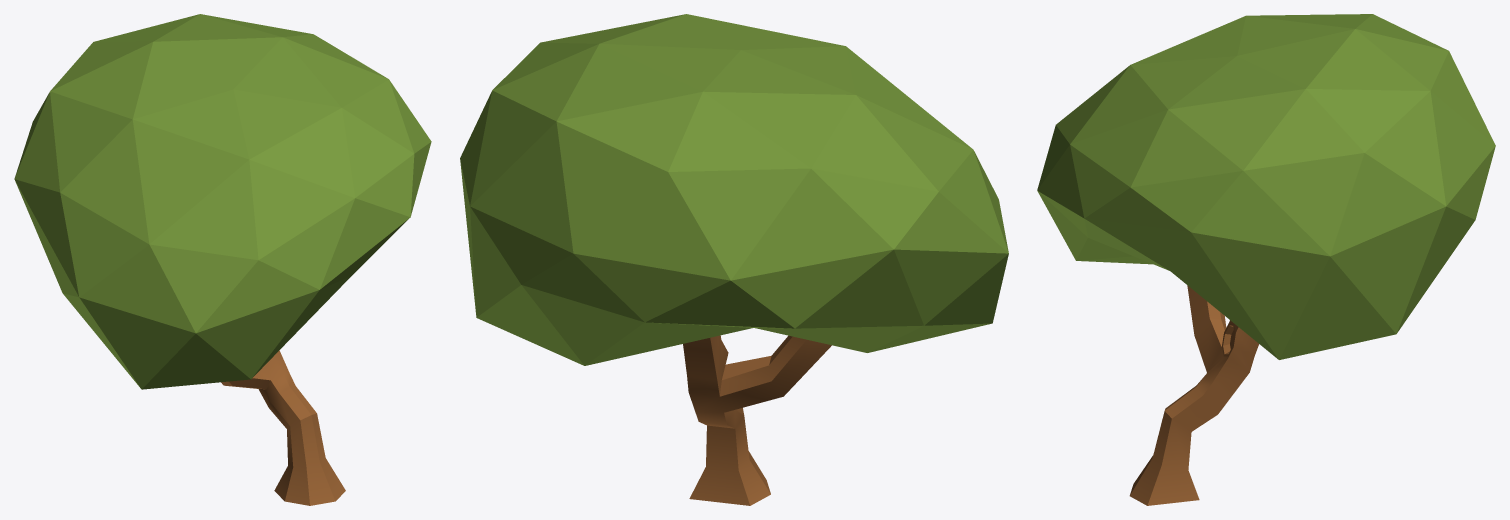
Rendered from Tree_5.fbx.
3 views of the same model, side by side, from view 1: azimuth 30°, elevation 25°; view 2: azimuth 150°, elevation 25°; view 3: azimuth 270°, elevation 25° (orthographic). The views are drawn at different scales.
Parts seen in each view (by area): view 1: Tree_5; view 2: Tree_5; view 3: Tree_5.
Boxes of the visible parts, box(x1,y1,x2,y2) form: Tree_5: box(14, 14, 431, 505); Tree_5: box(460, 14, 1008, 505); Tree_5: box(1037, 14, 1495, 505).
Bounding box in the file's own units: 515 × 538 × 523.
